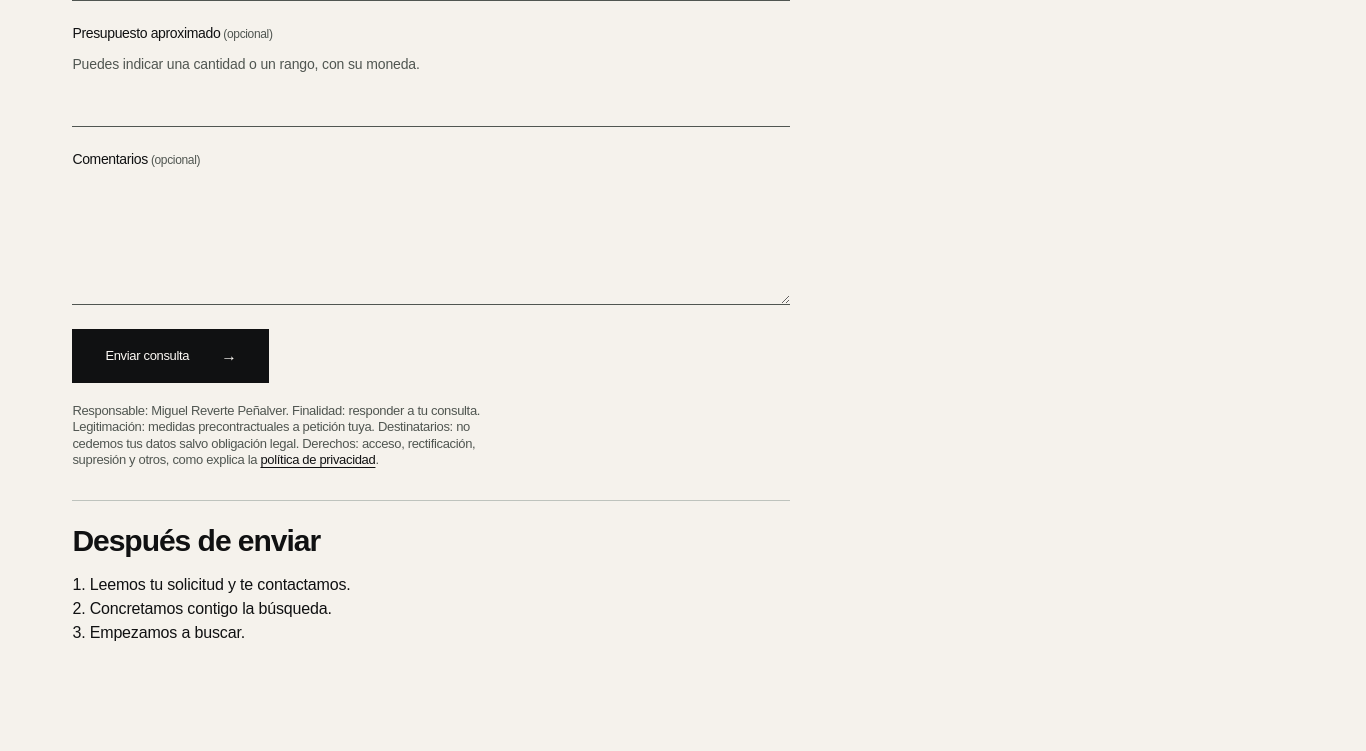
Test: contact paths › requires make/model for search, accepts short comments, and focuses the first error
This screenshot has width=1366, height=751.
(page scrolled)
Click the button "Enviar consulta →" at x=171, y=356, box [72,329,270,383]
(page scrolled)
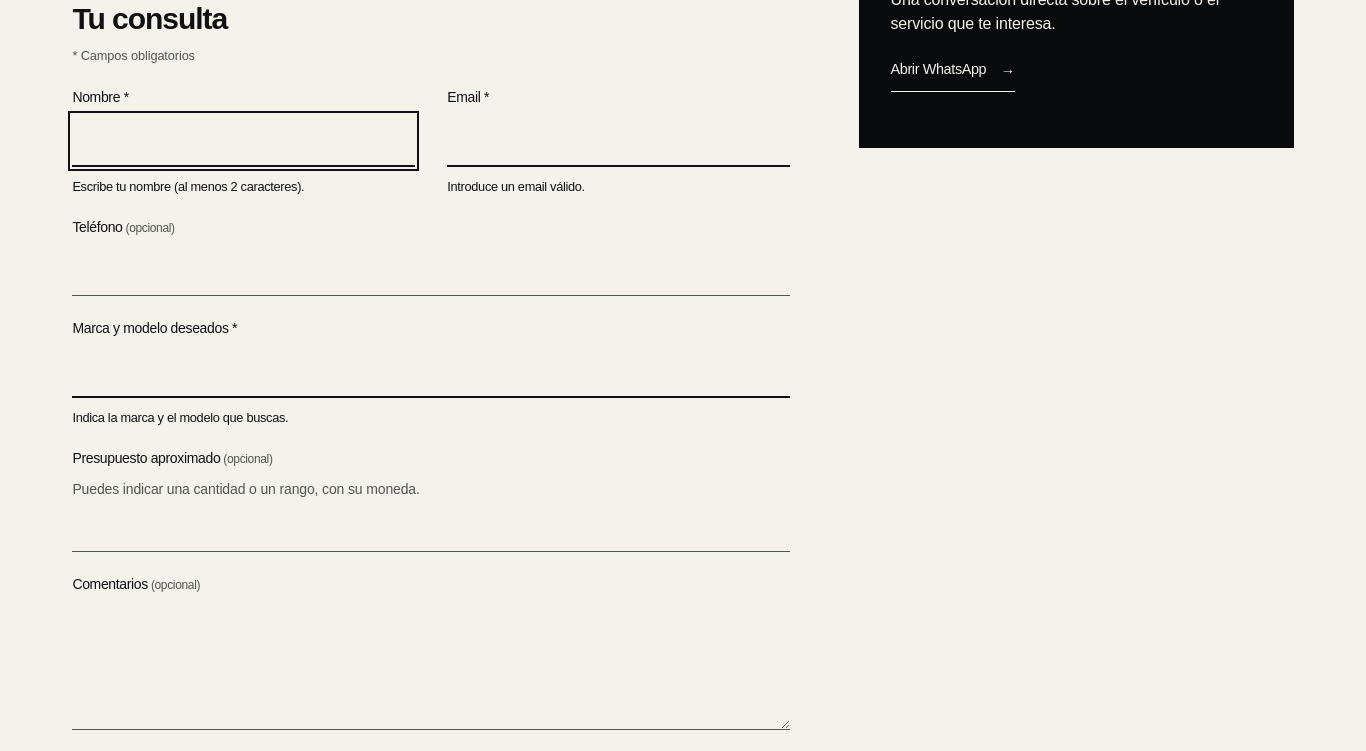
Type "Alex Smith" into the field labelled "Nombre *" at x=244, y=141, box [72,115,415,167]
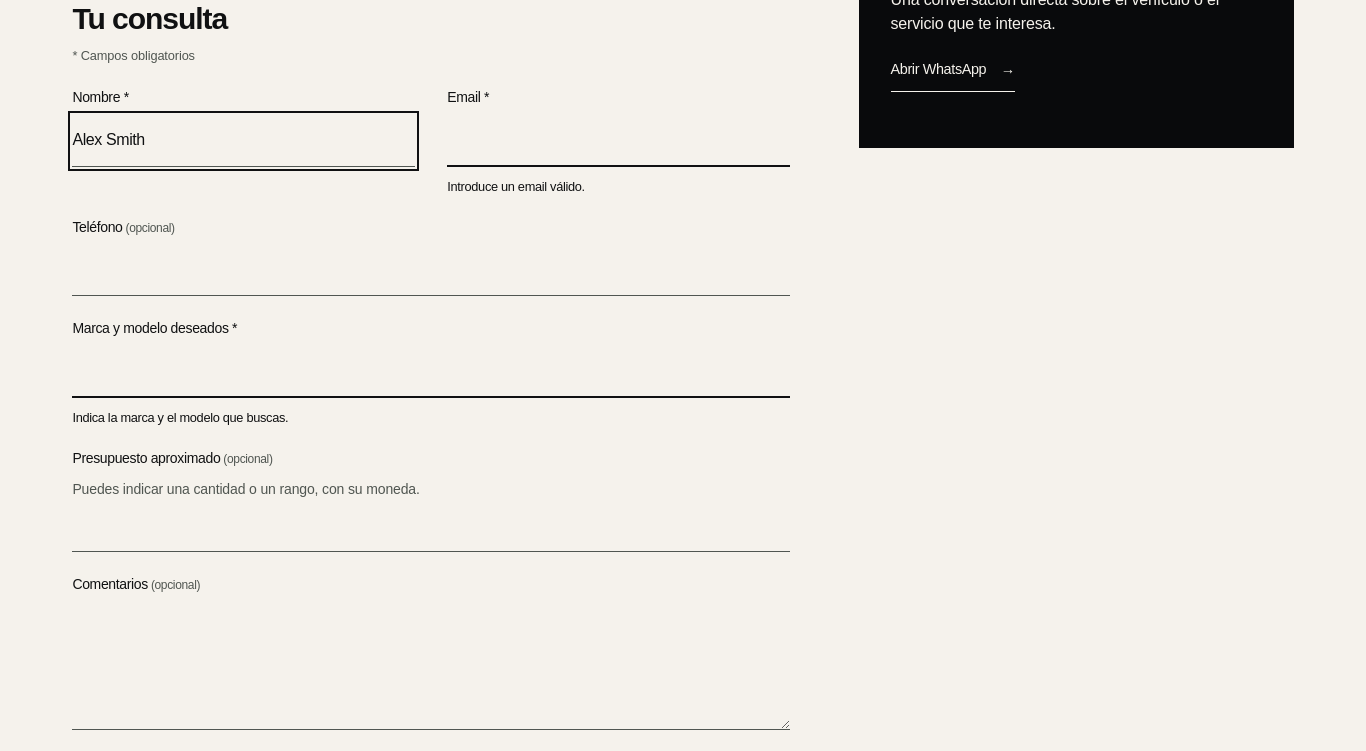
Type "alex@example.test" into the field labelled "Email *" at x=619, y=141, box [447,115,790,167]
(page scrolled)
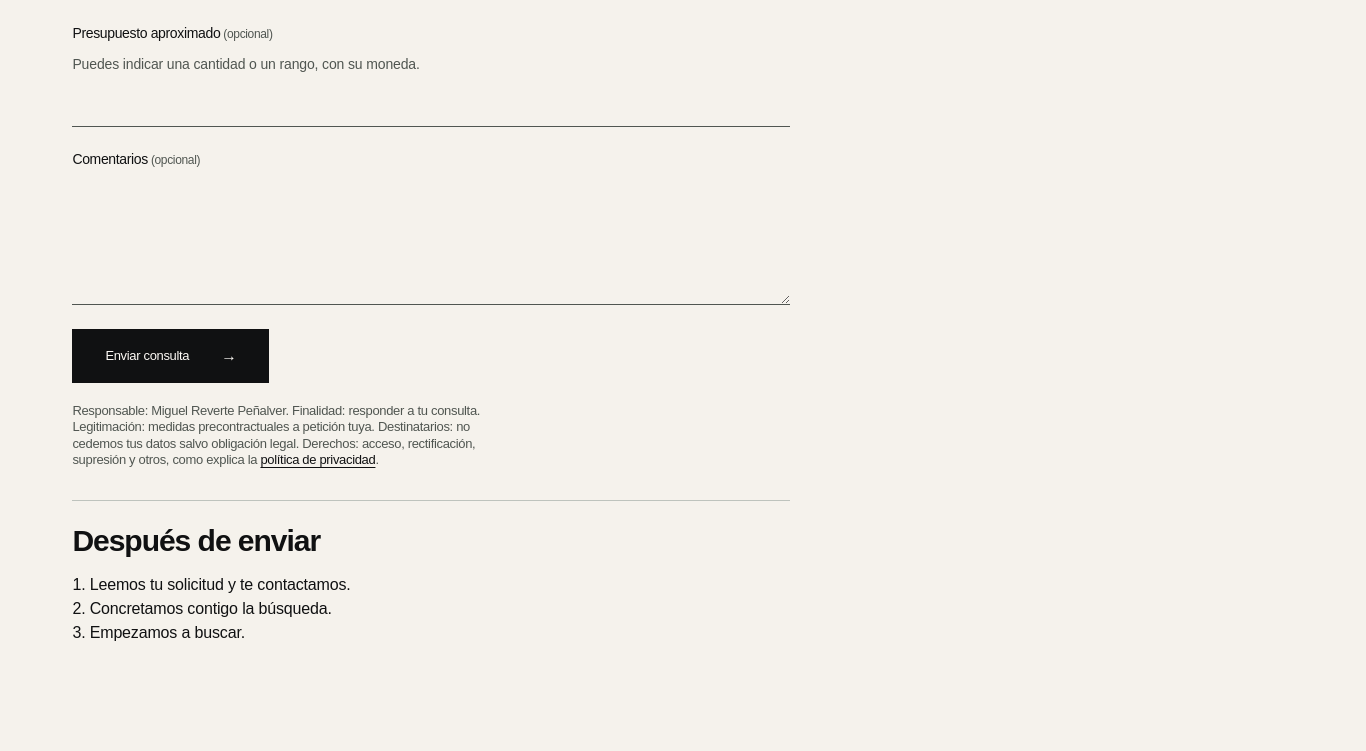
Click the button "Enviar consulta →" at x=171, y=356, box [72,329,270,383]
(page scrolled)
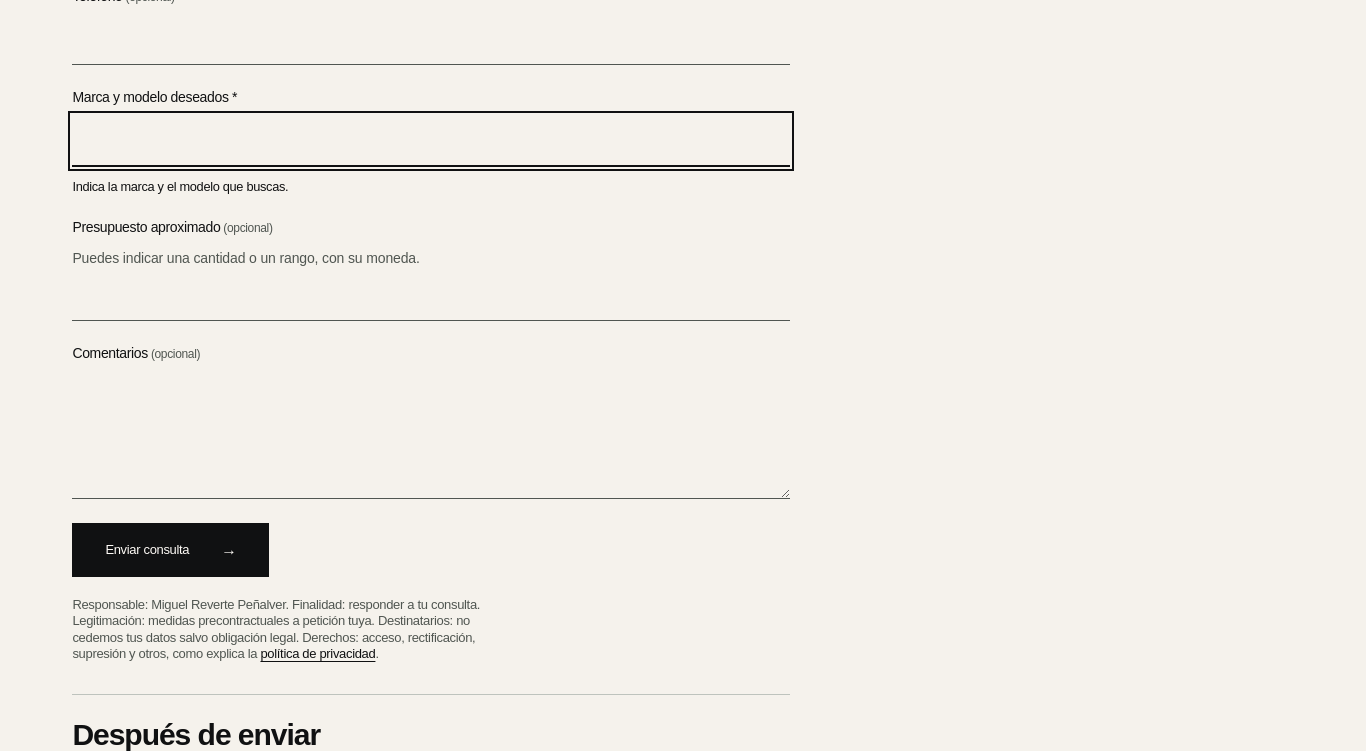
Type "BMW M3" into the field labelled "Marca y modelo deseados *" at x=431, y=141, box [72,115,790,167]
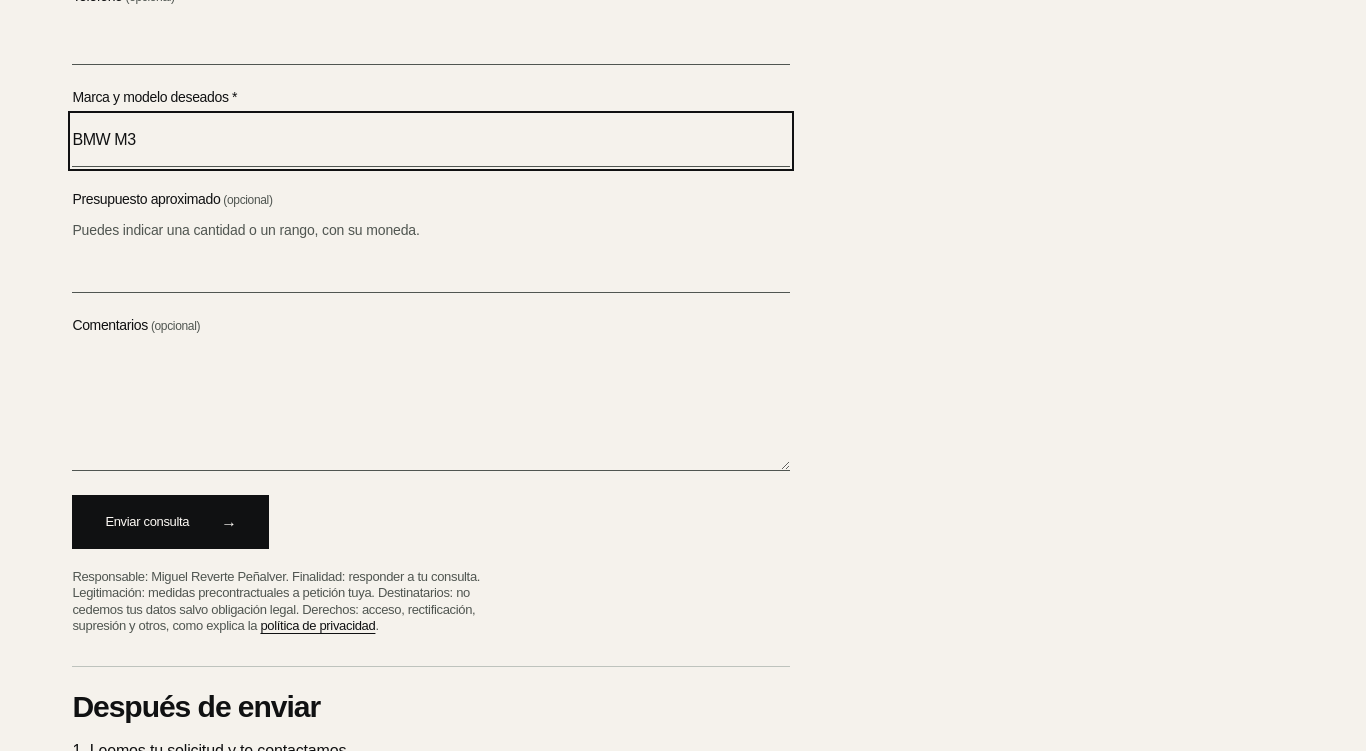
Type "Hi" into the text box labelled "Comentarios (opcional)" at x=431, y=407, box [72,343,790,471]
Click the button "Enviar consulta →" at x=171, y=522, box [72,495,270,549]
(page scrolled)
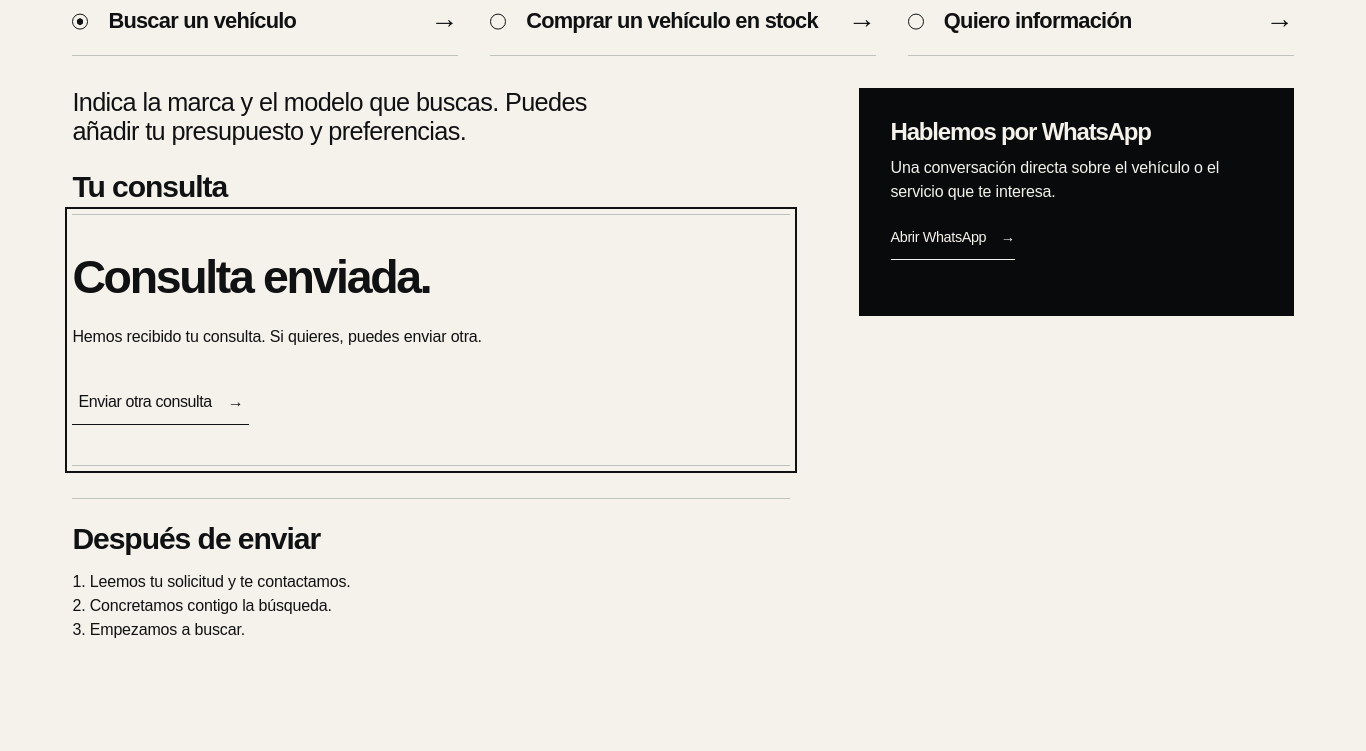
Expected: the heading "Consulta enviada." is shown, [72,251,430,303]
